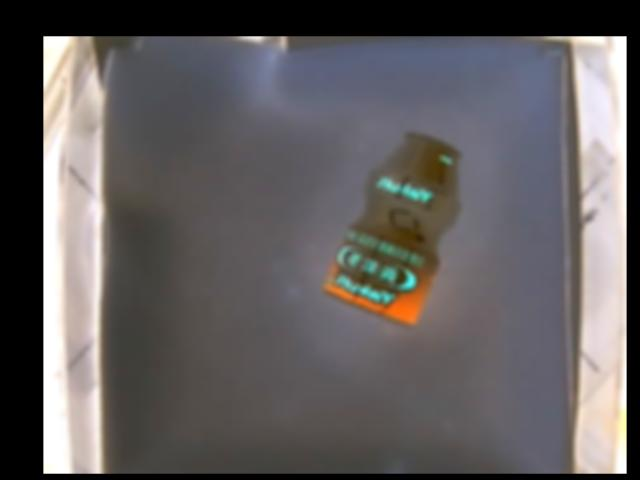Bottle: (323, 131, 467, 327)
